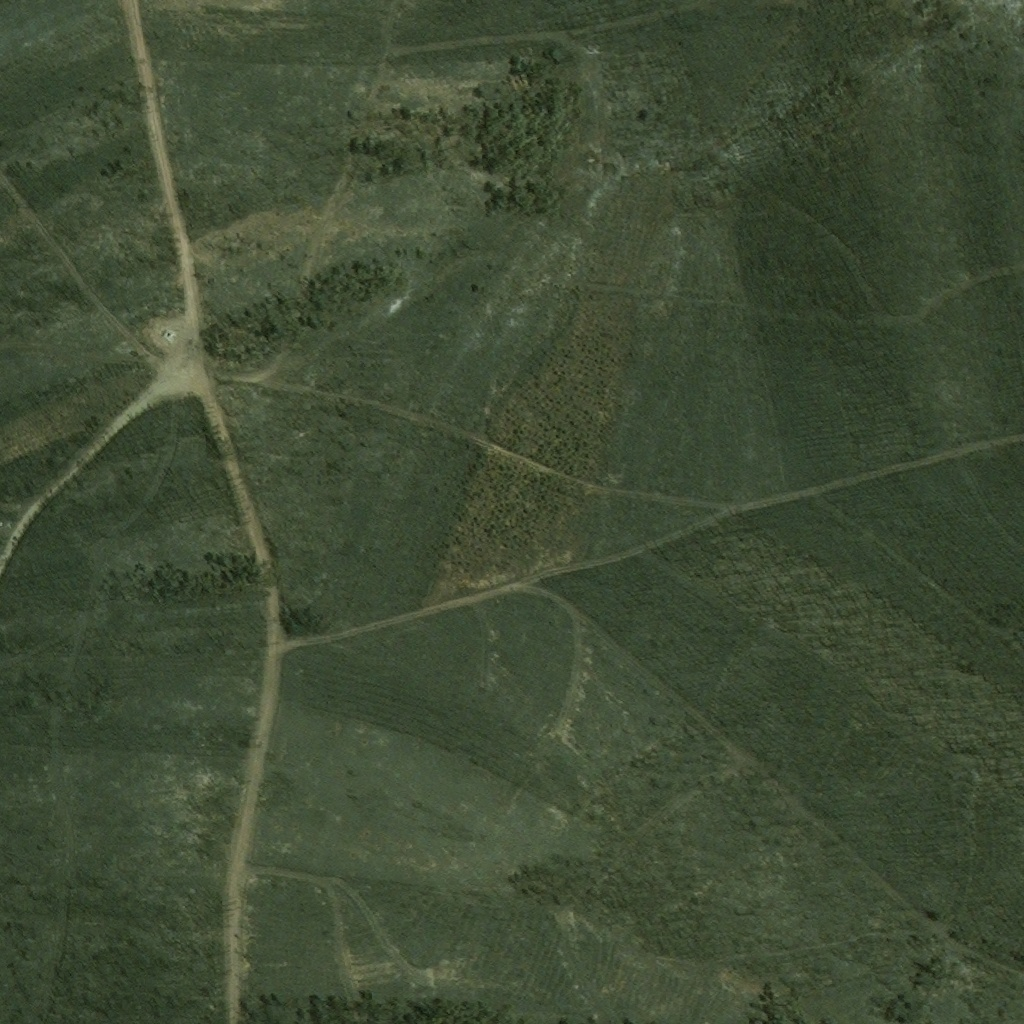4 un-classified: (262, 848, 269, 854)
